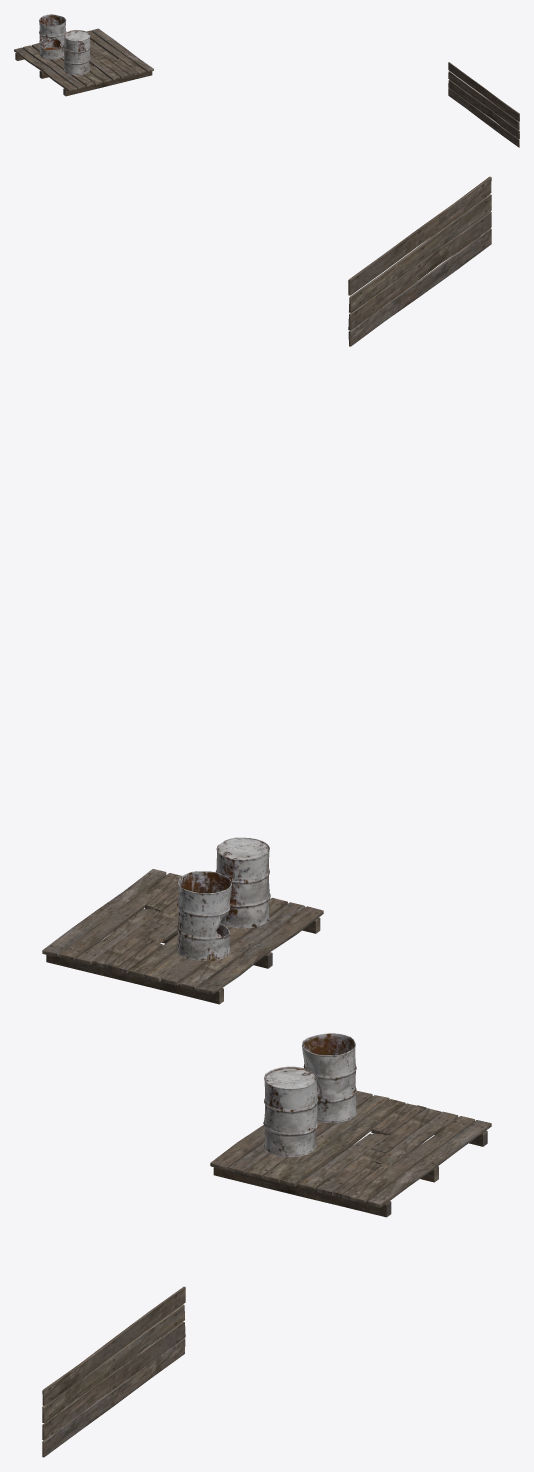
File: mullet-bend.glb
3 views of the same model, one above another, from view 1: azimuth 30°, elevation 25°; view 2: azimuth 150°, elevation 25°; view 3: azimuth 330°, elevation 25° (orthographic). The views are drawn at different scales.
Visible parts, largest first — view 1: SM_Dock_Set_07a, SM_Barrel_Closed_01a, SM_Barrel_Damaged_01a, Laguna skirt board 4, Laguna skirt board 3, Laguna skirt board 2, Laguna skirt board 1, Fitted reclaimed repair planks; view 2: SM_Dock_Set_07a, SM_Barrel_Damaged_01a, SM_Barrel_Closed_01a, Fitted reclaimed repair planks, Laguna skirt board 4, Laguna skirt board 2, Laguna skirt board 3, Laguna skirt board 1; view 3: SM_Dock_Set_07a, SM_Barrel_Closed_01a, SM_Barrel_Damaged_01a, Fitted reclaimed repair planks, Laguna skirt board 2, Laguna skirt board 4, Laguna skirt board 3, Laguna skirt board 1.
Part boxes in pixels (x1=…): SM_Dock_Set_07a: x1=14, y1=28, x2=153, y2=96; SM_Barrel_Closed_01a: x1=63, y1=30, x2=90, y2=75; SM_Barrel_Damaged_01a: x1=39, y1=14, x2=66, y2=59; Laguna skirt board 4: x1=448, y1=62, x2=519, y2=121; Laguna skirt board 3: x1=448, y1=71, x2=519, y2=130; Laguna skirt board 2: x1=448, y1=80, x2=519, y2=138; Laguna skirt board 1: x1=448, y1=88, x2=519, y2=147; Fitted reclaimed repair planks: x1=90, y1=47, x2=138, y2=78; SM_Dock_Set_07a: x1=42, y1=869, x2=323, y2=1004; SM_Barrel_Damaged_01a: x1=177, y1=871, x2=231, y2=961; SM_Barrel_Closed_01a: x1=215, y1=837, x2=270, y2=928; Fitted reclaimed repair planks: x1=92, y1=881, x2=178, y2=973; Laguna skirt board 4: x1=348, y1=176, x2=491, y2=295; Laguna skirt board 2: x1=348, y1=211, x2=491, y2=330; Laguna skirt board 3: x1=349, y1=194, x2=491, y2=312; Laguna skirt board 1: x1=348, y1=228, x2=491, y2=346; SM_Dock_Set_07a: x1=210, y1=1091, x2=491, y2=1217; SM_Barrel_Closed_01a: x1=263, y1=1066, x2=318, y2=1157; SM_Barrel_Damaged_01a: x1=302, y1=1033, x2=356, y2=1123; Fitted reclaimed repair planks: x1=317, y1=1103, x2=441, y2=1199; Laguna skirt board 2: x1=42, y1=1322, x2=185, y2=1440; Laguna skirt board 4: x1=42, y1=1286, x2=185, y2=1405; Laguna skirt board 3: x1=42, y1=1304, x2=184, y2=1422; Laguna skirt board 1: x1=42, y1=1338, x2=185, y2=1457.
Size of the model in its own units: 4.9 by 3.42 by 14.81.
Materials: 3 (3 with a texture image).
